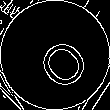O_NW: (22, 22, 88, 88)
